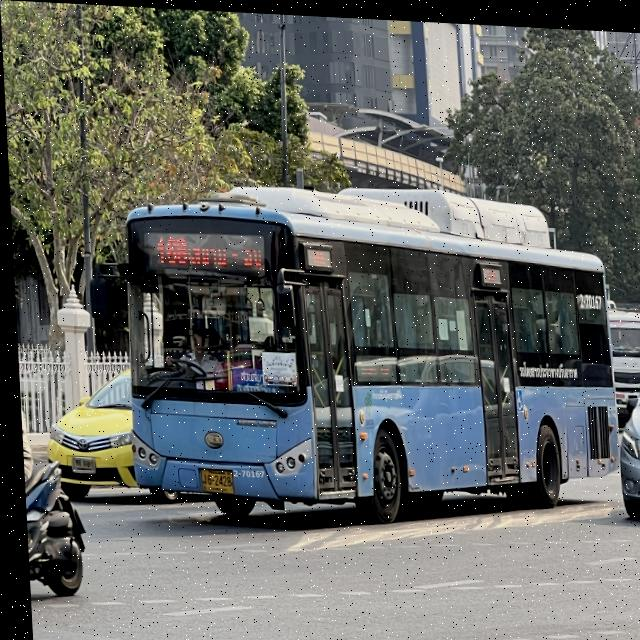BMTA-bus: (91, 171, 618, 534)
Bus-Line-Number: (150, 231, 187, 265)
Destination-Sign-Normal: (226, 364, 275, 391)
